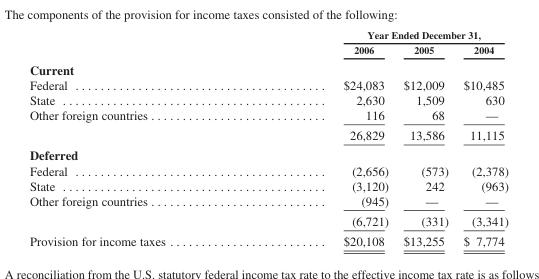table: (28, 28, 507, 248)
table column: (28, 28, 253, 248), (253, 28, 395, 248), (395, 28, 455, 248), (455, 28, 507, 248)
table column header: (28, 28, 507, 58)
table projected row header: (28, 58, 507, 76), (28, 144, 507, 162)
table row: (28, 124, 507, 144), (28, 210, 507, 230), (28, 58, 507, 76), (28, 144, 507, 162), (28, 230, 507, 248), (28, 107, 507, 124), (28, 193, 507, 210), (28, 42, 507, 58), (28, 76, 507, 92), (28, 177, 507, 193), (28, 92, 507, 107), (28, 162, 507, 177), (28, 28, 507, 42)
table spanning cell: (253, 28, 507, 42)
